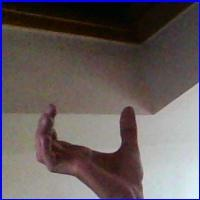space: (32, 94, 162, 193)
